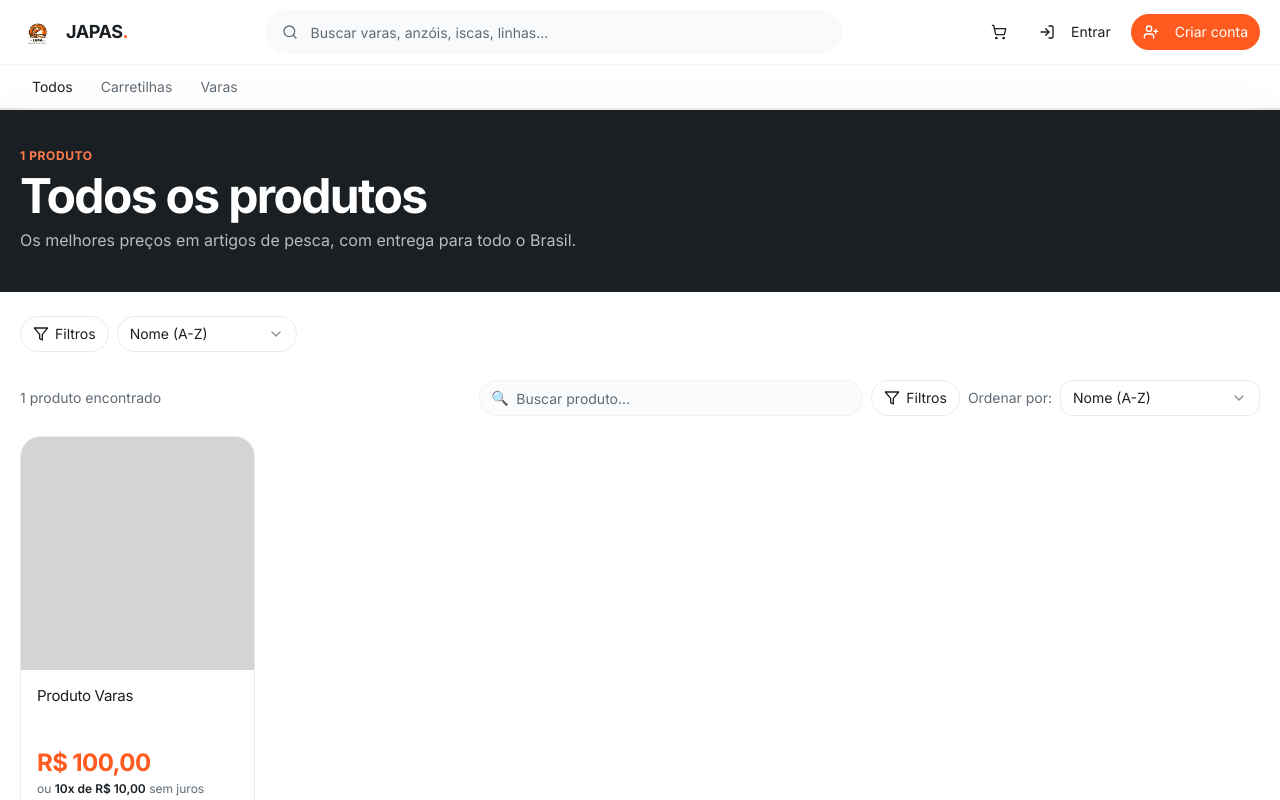
Test case: ProductListing › oculta as listas abertas e inicia o filtro pelas categorias principais
The image size is (1280, 800).
Expected: the heading "Produto Varas" is shown, [37, 686, 133, 705]
Click the 1st button "Filtros".
click(64, 334)  # box [20, 316, 109, 352]
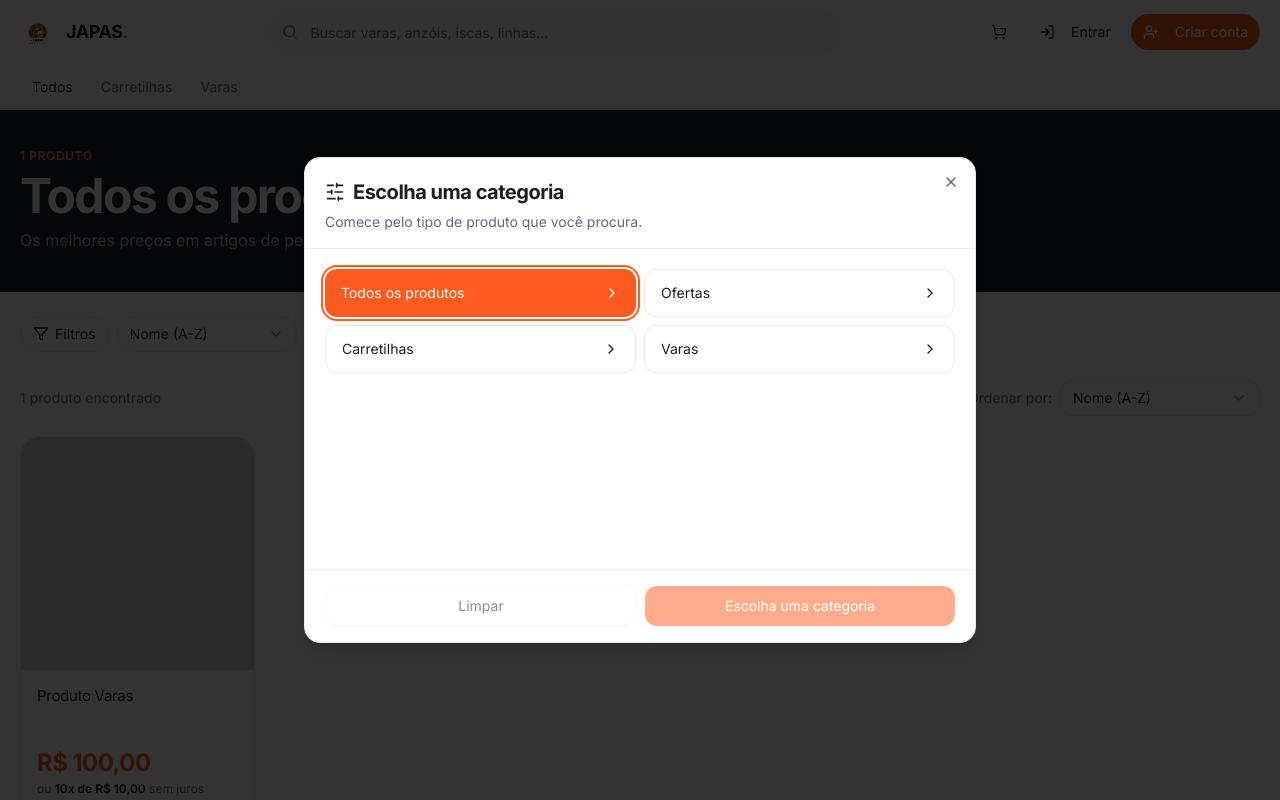
Now the heading "Escolha uma categoria" is shown, box [325, 178, 564, 206]
Now the button "Varas" is shown, box [644, 325, 955, 373]
